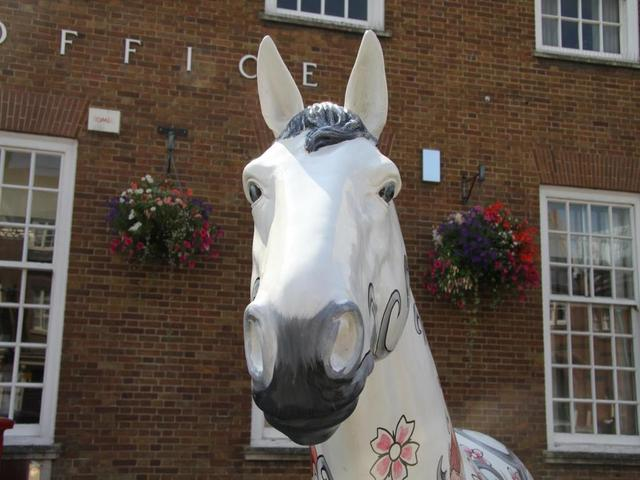horse: (192, 10, 564, 467)
